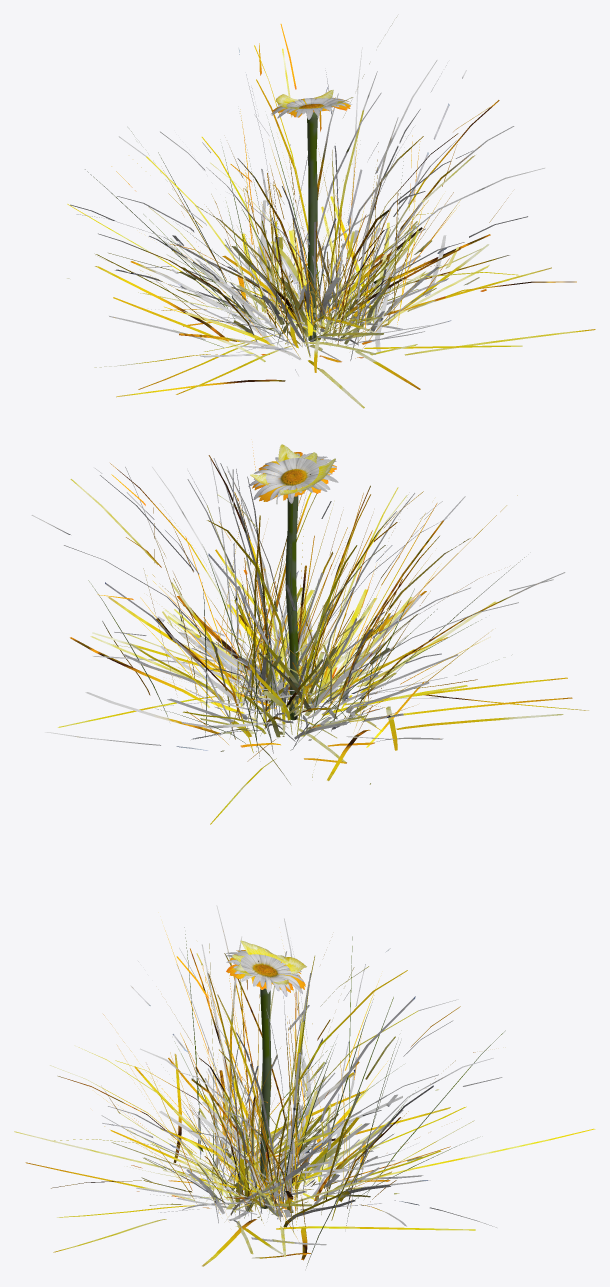
The model's file is grass_withflower.obj.
3 views of the same model, one above another, from view 1: azimuth 30°, elevation 25°; view 2: azimuth 150°, elevation 25°; view 3: azimuth 270°, elevation 25° (orthographic). The views are drawn at different scales.
Visible parts, largest first — view 1: Grass6_Plane.002, Grass2_Plane.005, Grass3_Plane.004, Grass8_Plane.007, Grass7_Plane.006, Grass5_Plane.008, Grass1_Plane.003, Flower1_Cube.006, Grass4_Plane.010, Flower2_Cube.008; view 2: Grass6_Plane.002, Grass3_Plane.004, Grass2_Plane.005, Grass8_Plane.007, Grass7_Plane.006, Grass5_Plane.008, Flower1_Cube.006, Grass1_Plane.003, Flower2_Cube.008, Grass4_Plane.010; view 3: Grass6_Plane.002, Grass2_Plane.005, Grass3_Plane.004, Grass8_Plane.007, Grass5_Plane.008, Grass7_Plane.006, Grass1_Plane.003, Flower1_Cube.006, Flower2_Cube.008, Grass4_Plane.010.
Boxes of the visible parts, bbox=[...] form: Grass6_Plane.002: bbox=[70, 17, 576, 375]; Grass2_Plane.005: bbox=[67, 196, 595, 408]; Grass3_Plane.004: bbox=[115, 214, 486, 359]; Grass8_Plane.007: bbox=[85, 109, 508, 351]; Grass7_Plane.006: bbox=[108, 164, 460, 358]; Grass5_Plane.008: bbox=[155, 200, 479, 344]; Grass1_Plane.003: bbox=[171, 230, 448, 357]; Flower1_Cube.006: bbox=[271, 97, 351, 340]; Grass4_Plane.010: bbox=[151, 243, 451, 361]; Flower2_Cube.008: bbox=[276, 89, 353, 340]; Grass6_Plane.002: bbox=[31, 455, 565, 753]; Grass3_Plane.004: bbox=[123, 569, 477, 739]; Grass2_Plane.005: bbox=[45, 549, 588, 824]; Grass8_Plane.007: bbox=[88, 447, 524, 758]; Grass7_Plane.006: bbox=[139, 566, 488, 744]; Grass5_Plane.008: bbox=[129, 561, 458, 734]; Flower1_Cube.006: bbox=[248, 453, 338, 719]; Grass1_Plane.003: bbox=[160, 628, 467, 741]; Flower2_Cube.008: bbox=[250, 444, 335, 720]; Grass4_Plane.010: bbox=[155, 618, 447, 761]; Grass6_Plane.002: bbox=[50, 905, 502, 1232]; Grass2_Plane.005: bbox=[14, 1042, 595, 1266]; Grass3_Plane.004: bbox=[101, 1050, 403, 1227]; Grass8_Plane.007: bbox=[103, 927, 505, 1266]; Grass5_Plane.008: bbox=[117, 1068, 441, 1227]; Grass7_Plane.006: bbox=[103, 1008, 473, 1238]; Grass1_Plane.003: bbox=[127, 1094, 427, 1220]; Flower1_Cube.006: bbox=[225, 950, 303, 1113]; Flower2_Cube.008: bbox=[232, 940, 306, 1208]; Grass4_Plane.010: bbox=[125, 1103, 450, 1217].
Size of the model in its own units: 0.3626 by 0.205 by 0.3947.
